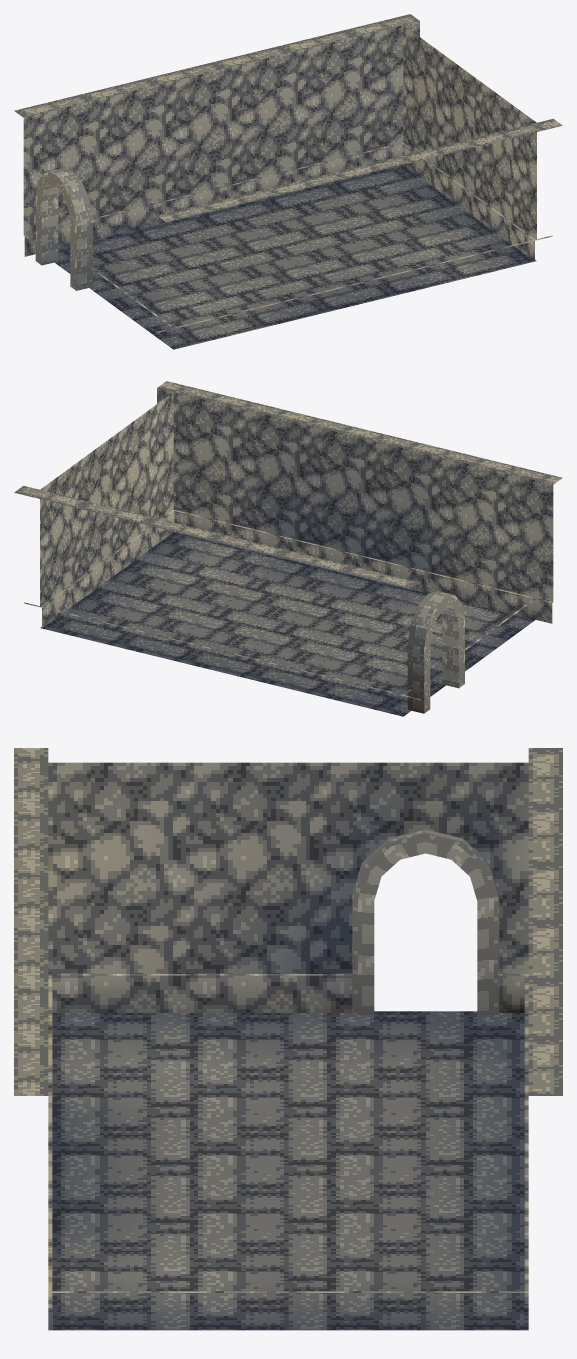
File: cst.hall__dungeon.glb
The picture shows the model from 3 angles, top to bottom: view 1: azimuth 30°, elevation 25°; view 2: azimuth 150°, elevation 25°; view 3: azimuth 270°, elevation 25°; orthographic projection. The views are drawn at different scales.
Parts seen in each view (by area): view 1: kit_shell_walls, kit_shell_floor, kit_fittings; view 2: kit_shell_walls, kit_shell_floor, kit_fittings; view 3: kit_shell_floor, kit_shell_walls, kit_fittings.
Part boxes in pixels (x1,y1,x2,y2): kit_shell_walls: (14, 14, 562, 332); kit_shell_floor: (54, 165, 536, 349); kit_fittings: (35, 168, 92, 290); kit_shell_walls: (14, 381, 562, 699); kit_shell_floor: (40, 532, 535, 716); kit_fittings: (407, 591, 464, 713); kit_shell_floor: (48, 1011, 528, 1330); kit_shell_walls: (14, 748, 562, 1307); kit_fittings: (352, 829, 499, 1014).
Size of the model in its own units: 12 by 4 by 8.
4 materials, 4 textured.
